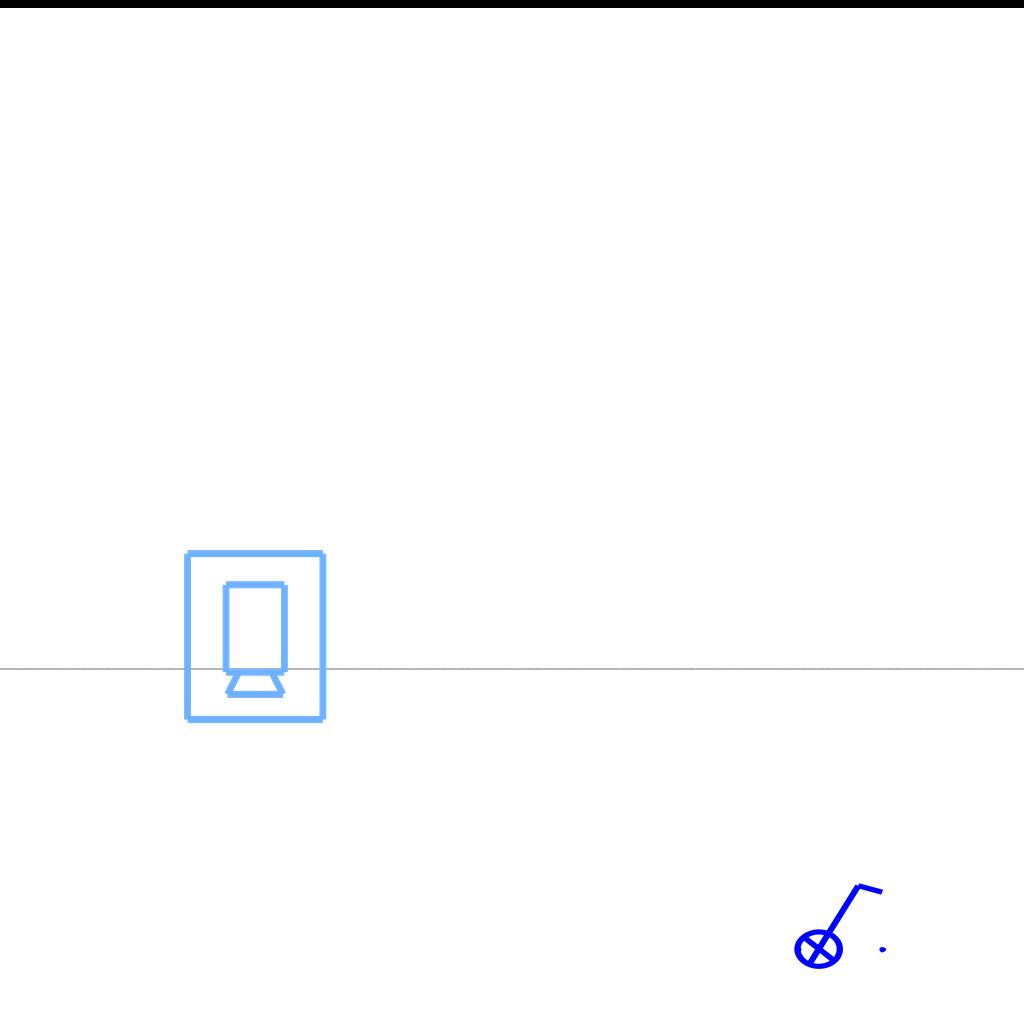Ausschalter_beleuchtet: (780, 875, 892, 971)
KFO_Kamera_mit_Festobjektiv: (177, 545, 331, 727)
